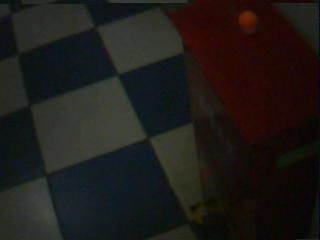oball: (239, 10, 257, 28)
